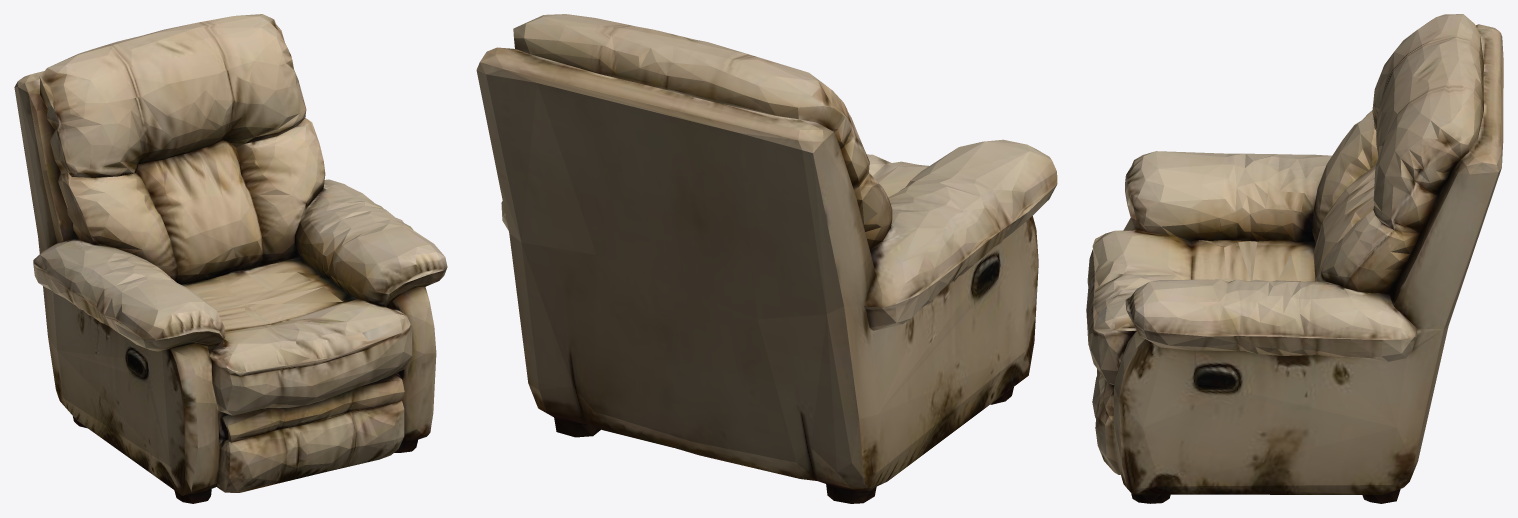
File: recliner_lod2.glb
The picture shows the model from 3 angles, left to right: view 1: azimuth 30°, elevation 25°; view 2: azimuth 150°, elevation 25°; view 3: azimuth 270°, elevation 25°; orthographic projection. The views are drawn at different scales.
Parts seen in each view (by area): view 1: material; view 2: material; view 3: material.
Part boxes in pixels (<box>): material: <box>14,14,447,503</box>; material: <box>476,14,1057,503</box>; material: <box>1086,14,1503,503</box>.
Bounding box in the file's own units: 0.9652 × 0.9985 × 0.9979.
Materials: 1 (1 with a texture image).
